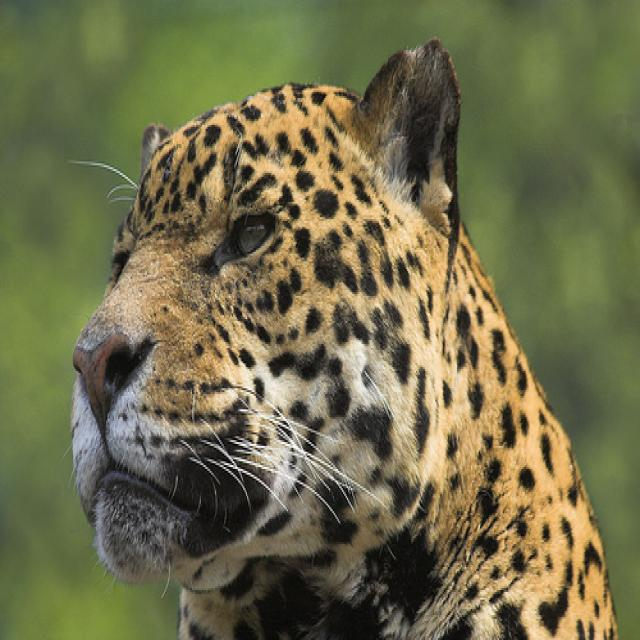Leopard: (65, 33, 621, 636)
